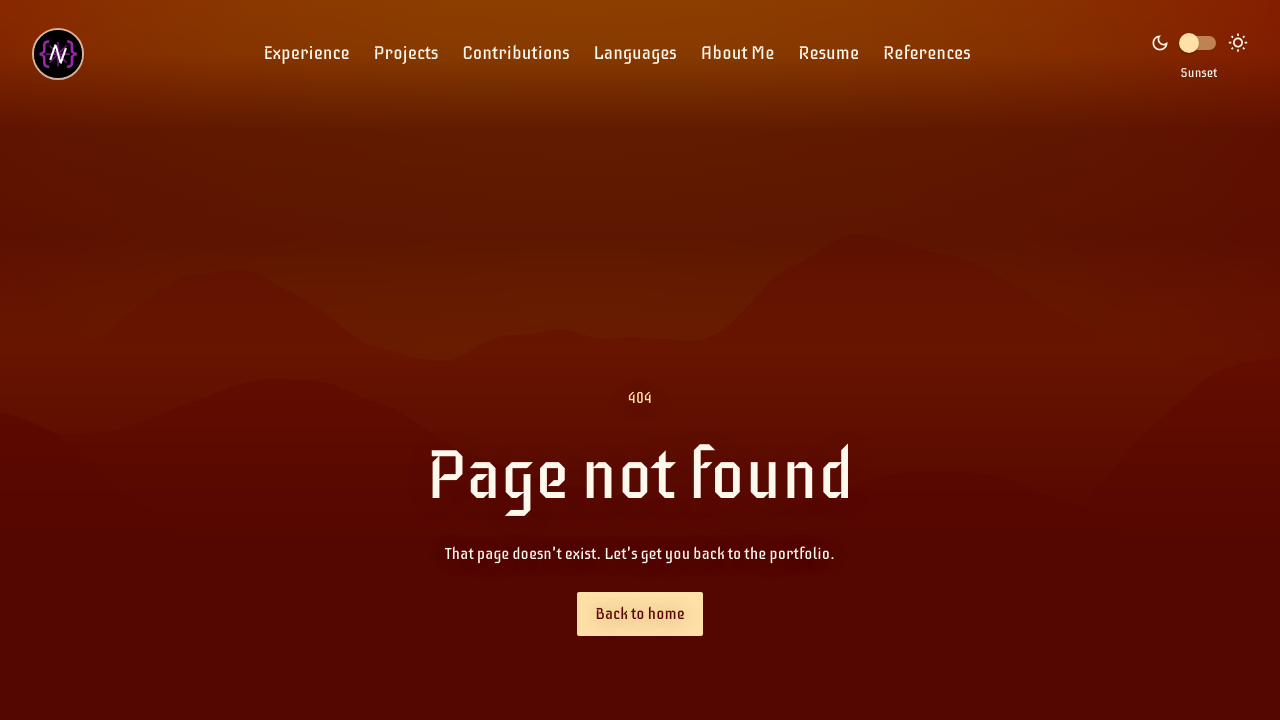
Test case: portfolio › shows a helpful 404 and lets visitors return home
Expected: the heading "Page not found" is shown, [426,436,854,516]
Click the link "Back to home": (640, 614) [577,592,703,636]
(page scrolled)
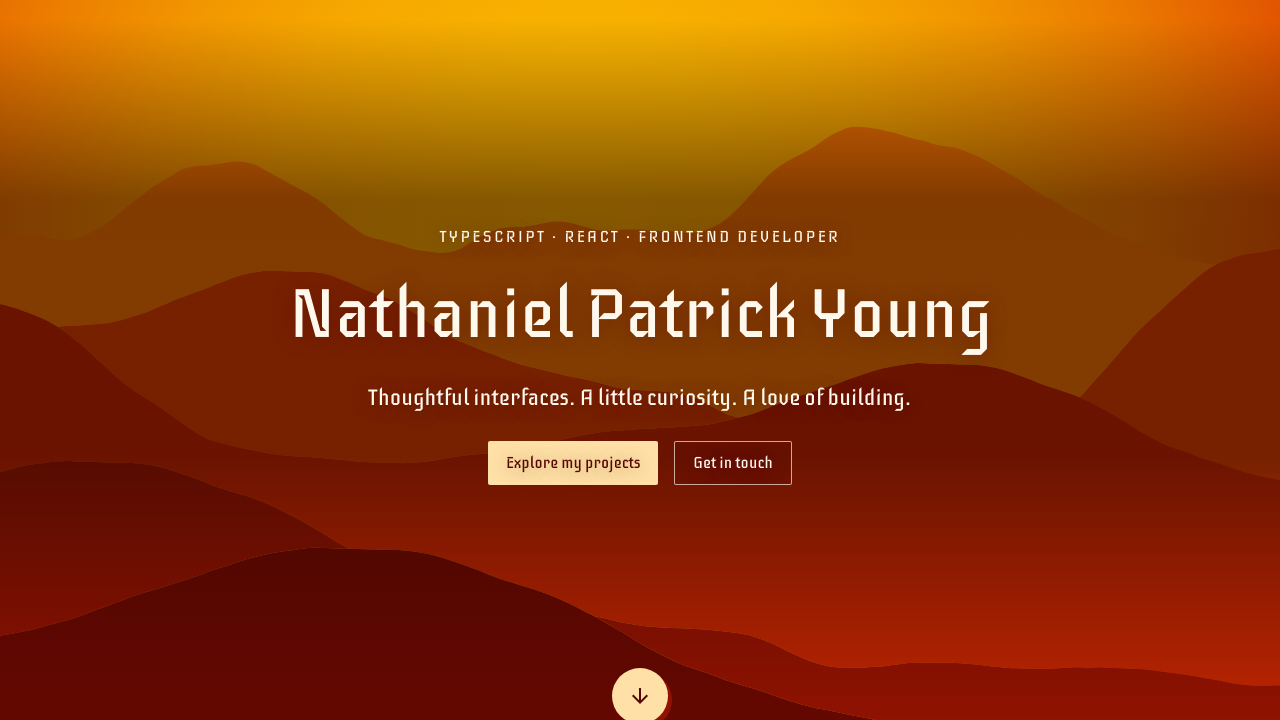
Expected: the heading "Nathaniel Patrick Young" is shown, [289,275,991,354]
